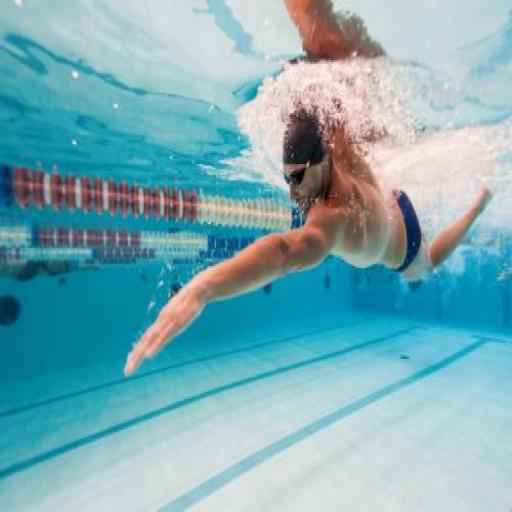swimming: (120, 2, 498, 381)
